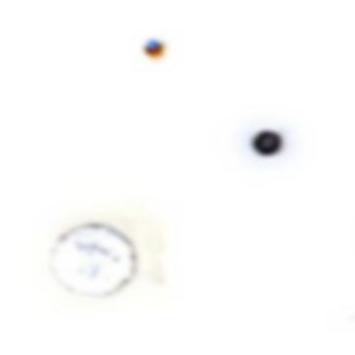abnormal: (33, 201, 168, 314)
cancer: (227, 111, 306, 173)
normal: (138, 35, 174, 63)
